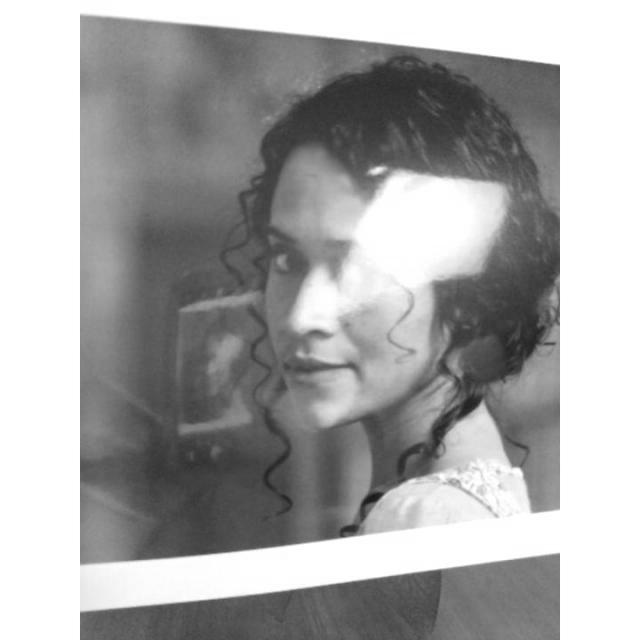fake: (82, 5, 558, 614)
